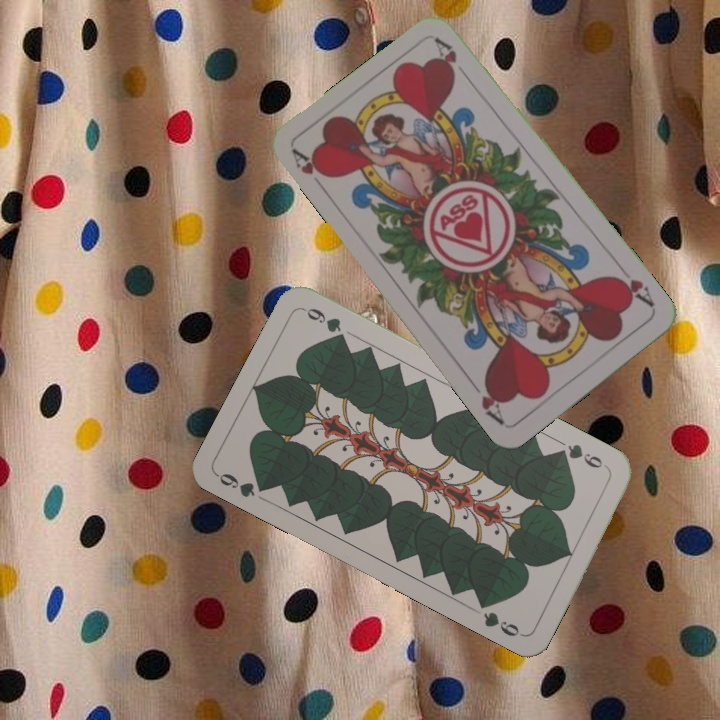G9: (553, 440, 612, 473), (213, 469, 273, 500)
HA: (288, 145, 334, 195), (609, 271, 657, 310)
